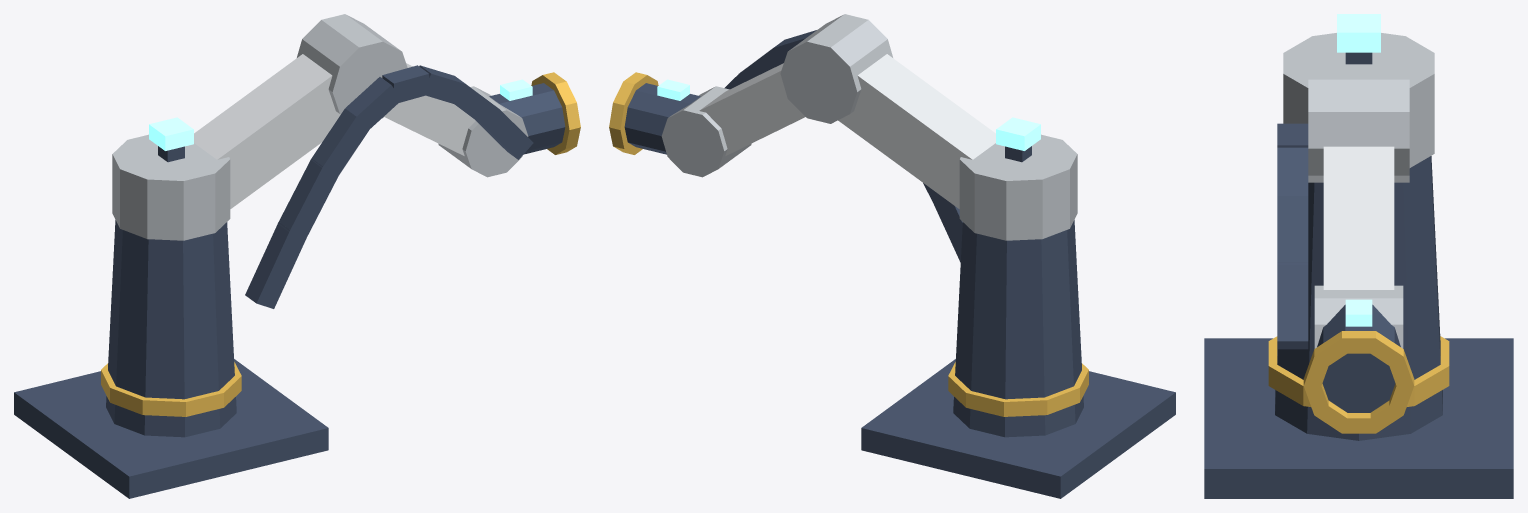
Rendered from arm.glb.
3 views of the same model, side by side, from view 1: azimuth 30°, elevation 25°; view 2: azimuth 150°, elevation 25°; view 3: azimuth 270°, elevation 25° (orthographic). The views are drawn at different scales.
Visible parts, largest first — view 1: DL014_ServiceArm_graphite_navy, DL014_ServiceArm_titanium, DL014_ServiceArm_hull_offwhite, DL014_ServiceArm_amber_accent, DL014_ServiceArm_emissive_cyan; view 2: DL014_ServiceArm_graphite_navy, DL014_ServiceArm_titanium, DL014_ServiceArm_hull_offwhite, DL014_ServiceArm_amber_accent, DL014_ServiceArm_emissive_cyan; view 3: DL014_ServiceArm_graphite_navy, DL014_ServiceArm_titanium, DL014_ServiceArm_hull_offwhite, DL014_ServiceArm_amber_accent, DL014_ServiceArm_emissive_cyan.
Part boxes in pixels (<box>): DL014_ServiceArm_graphite_navy: <box>14,65,565,498</box>; DL014_ServiceArm_titanium: <box>112,14,528,240</box>; DL014_ServiceArm_hull_offwhite: <box>194,54,475,208</box>; DL014_ServiceArm_amber_accent: <box>101,72,580,416</box>; DL014_ServiceArm_emissive_cyan: <box>149,79,532,150</box>; DL014_ServiceArm_graphite_navy: <box>624,30,1175,498</box>; DL014_ServiceArm_titanium: <box>661,14,1077,240</box>; DL014_ServiceArm_hull_offwhite: <box>699,54,995,208</box>; DL014_ServiceArm_amber_accent: <box>609,72,1088,416</box>; DL014_ServiceArm_emissive_cyan: <box>657,79,1040,150</box>; DL014_ServiceArm_graphite_navy: <box>1204,52,1513,498</box>; DL014_ServiceArm_titanium: <box>1283,33,1434,348</box>; DL014_ServiceArm_hull_offwhite: <box>1323,146,1394,289</box>; DL014_ServiceArm_amber_accent: <box>1268,331,1449,433</box>; DL014_ServiceArm_emissive_cyan: <box>1337,14,1380,326</box>.
Bounding box in the file's own units: 3.43 × 2.4 × 1.4.
